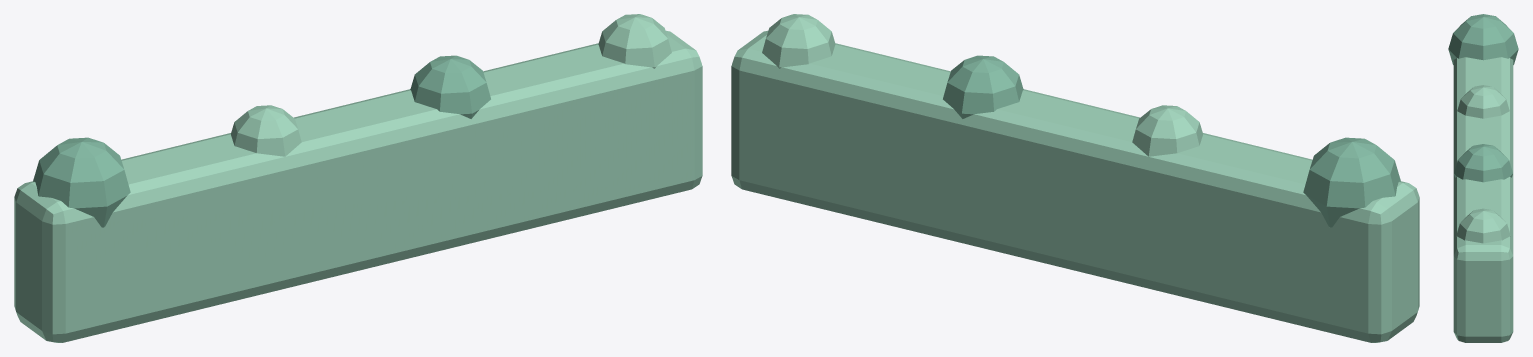
The model's file is kit_hedge_long.glb.
3 renders of one model, left to right at view 1: azimuth 30°, elevation 25°; view 2: azimuth 150°, elevation 25°; view 3: azimuth 270°, elevation 25°, orthographic. The views are drawn at different scales.
Parts seen in each view (by area): view 1: kit_hedge_long.001; view 2: kit_hedge_long.001; view 3: kit_hedge_long.001.
Part boxes in pixels (x1,y1,x2,y2): kit_hedge_long.001: (14, 14, 702, 342); kit_hedge_long.001: (731, 14, 1419, 342); kit_hedge_long.001: (1448, 14, 1518, 342).
Bounding box in the file's own units: 4.4 × 1.16 × 0.5892.
